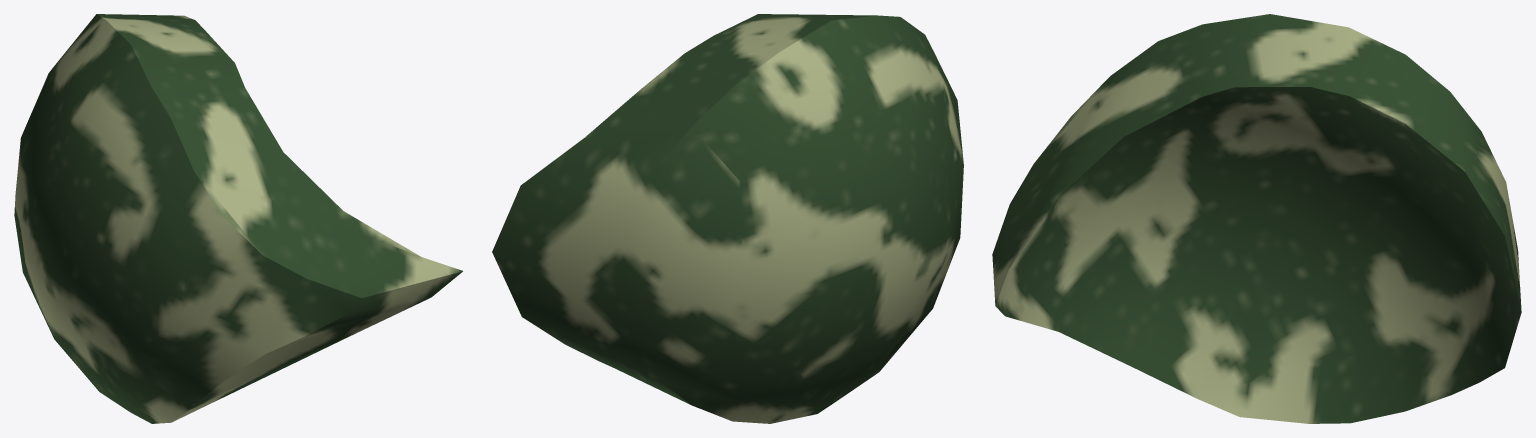
The model's file is link_body_20.obj.
3 renders of one model, left to right at view 1: azimuth 30°, elevation 25°; view 2: azimuth 150°, elevation 25°; view 3: azimuth 270°, elevation 25°, orthographic. The views are drawn at different scales.
Visible parts, largest first — view 1: link_body_20; view 2: link_body_20; view 3: link_body_20.
Boxes of the visible parts, bbox=[...] form: link_body_20: bbox=[14, 14, 462, 423]; link_body_20: bbox=[492, 14, 963, 423]; link_body_20: bbox=[992, 14, 1521, 423].
Size of the model in its own units: 7.42 by 8.87 by 11.
